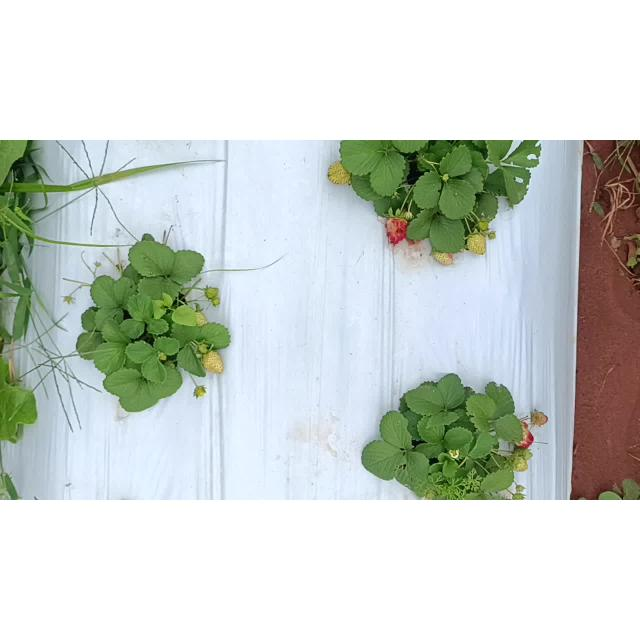no-maduro: (327, 160, 353, 186), (200, 350, 224, 374), (466, 233, 486, 255), (432, 250, 454, 266), (511, 456, 529, 472), (195, 312, 208, 326), (205, 287, 219, 299), (194, 387, 206, 397)
semi-maduro: (516, 427, 534, 448)
